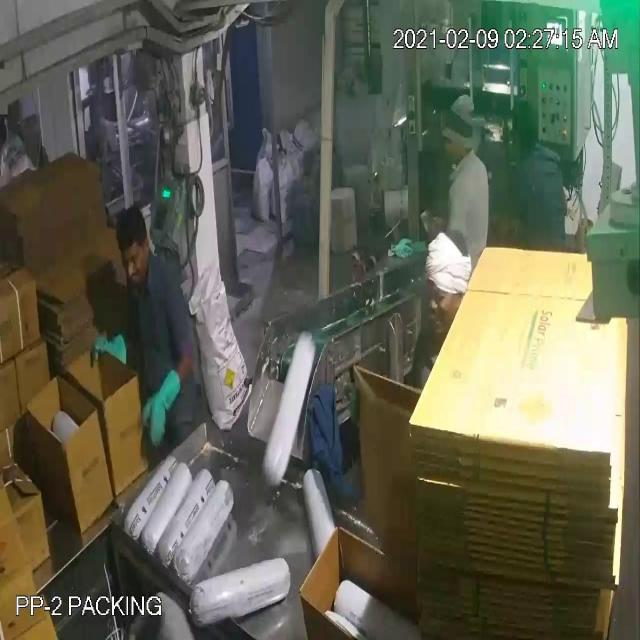Gloves: (47, 78, 162, 408)
